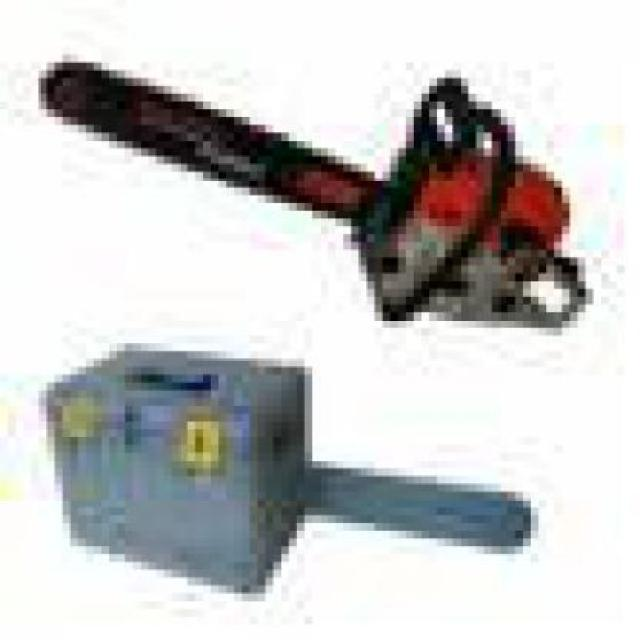Chainsaw: (32, 54, 597, 337)
